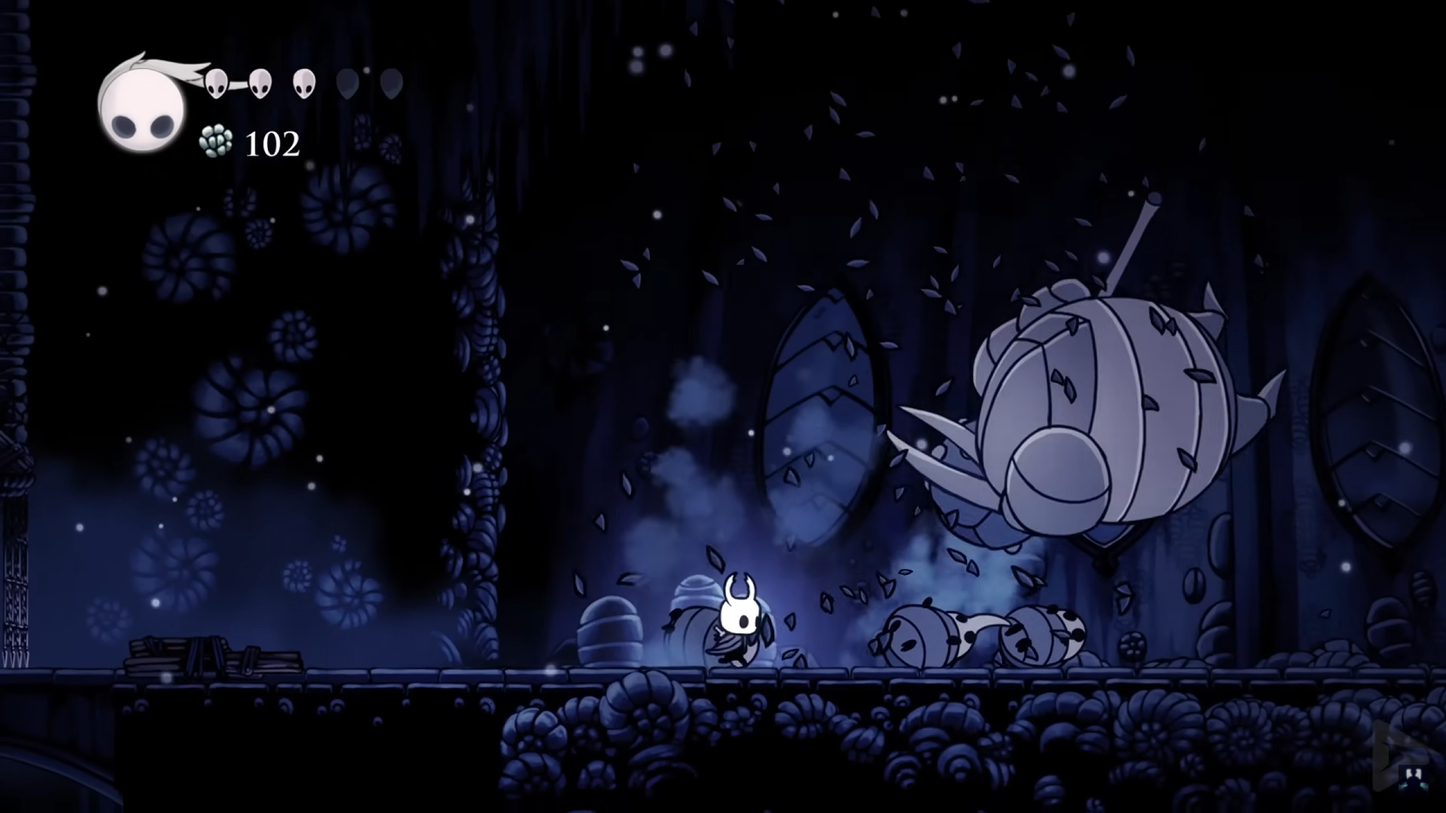HK: (709, 571, 773, 671)
